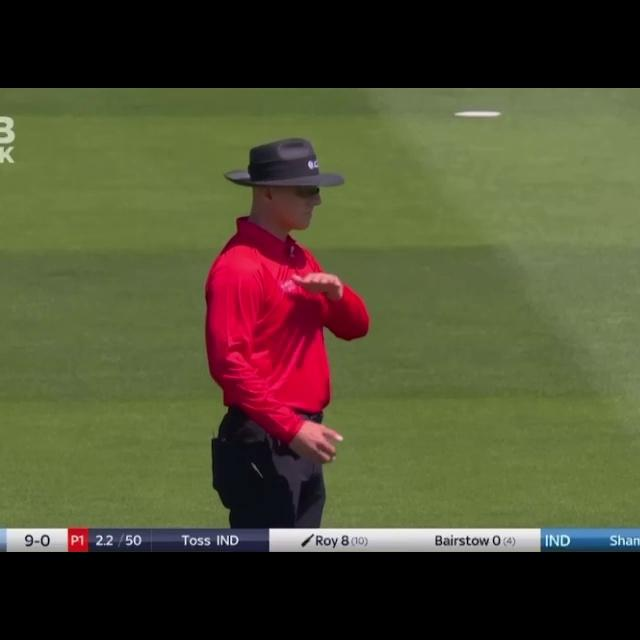umpire: (168, 111, 405, 526)
